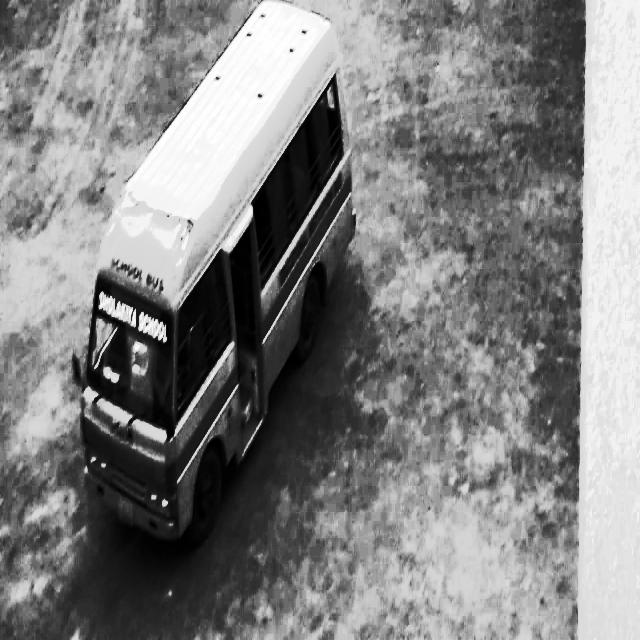Bus: (76, 13, 354, 554)
